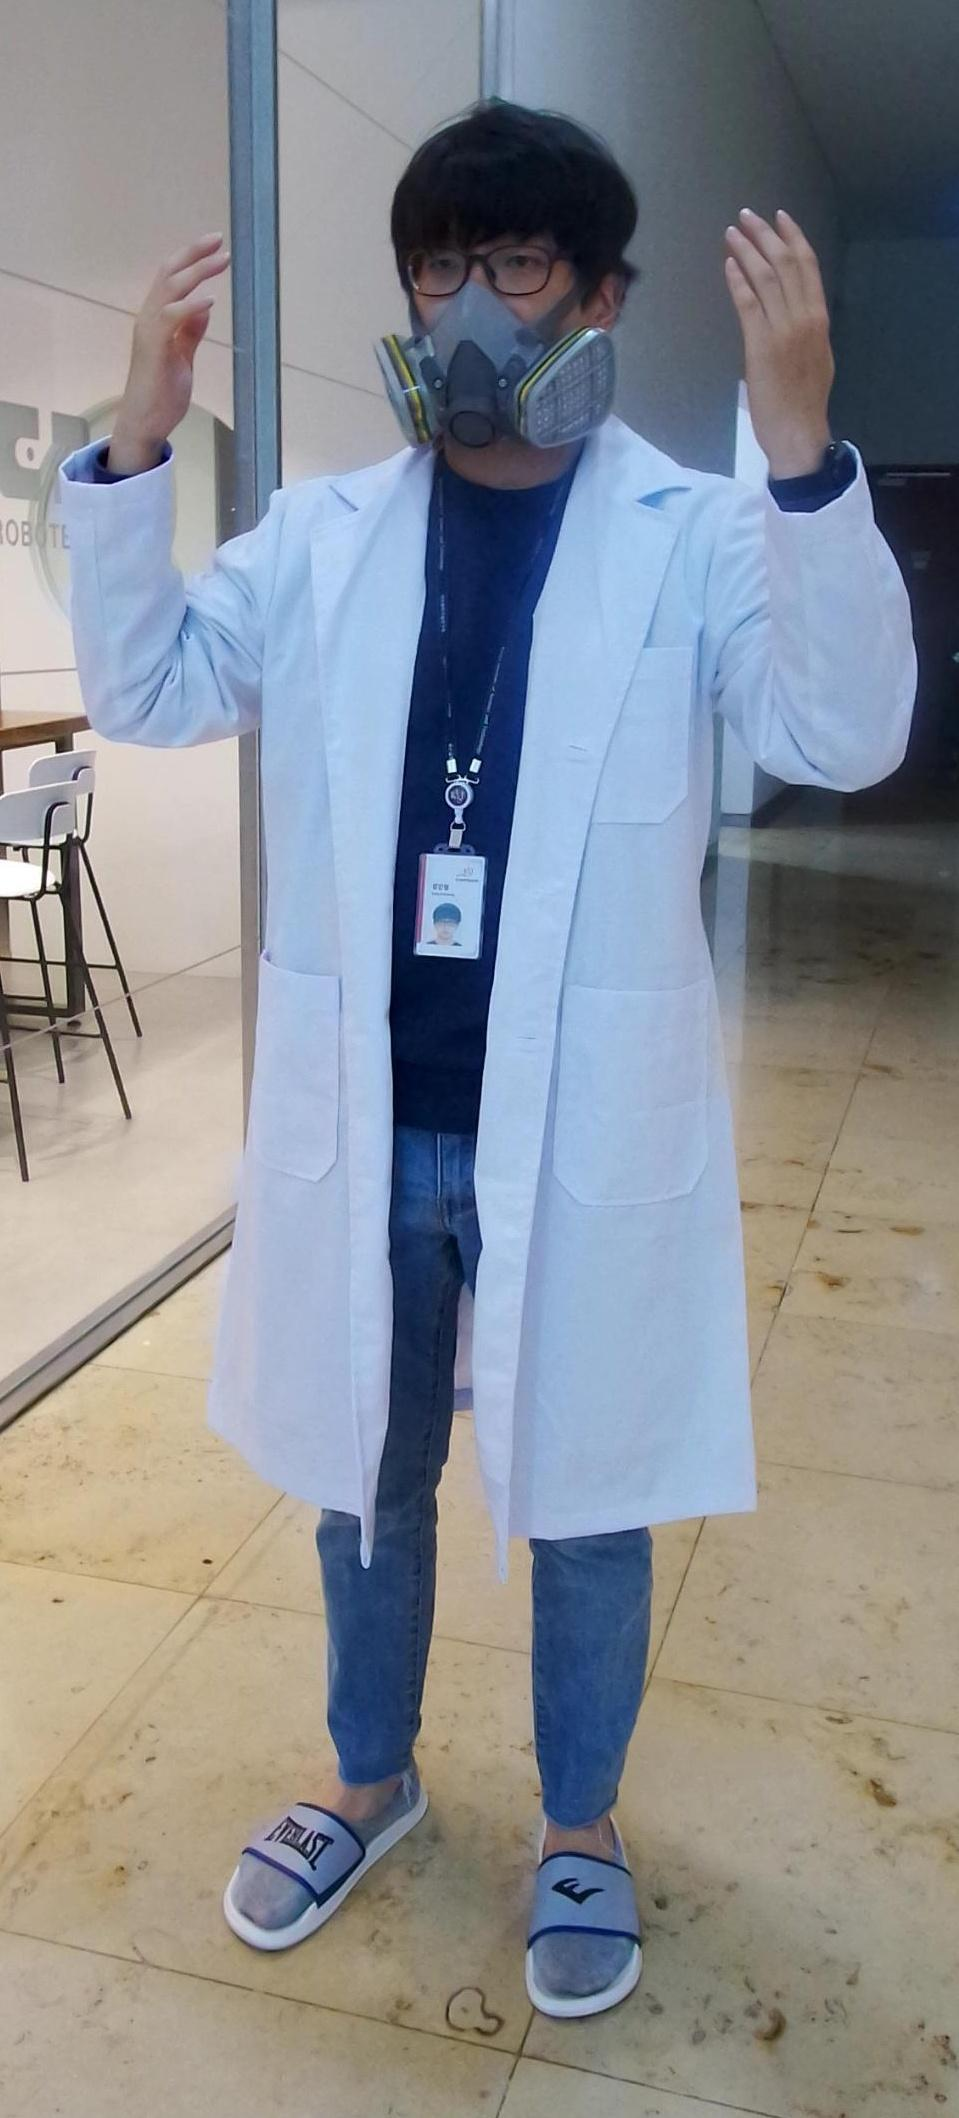lab_coat: (209, 466, 766, 1497)
